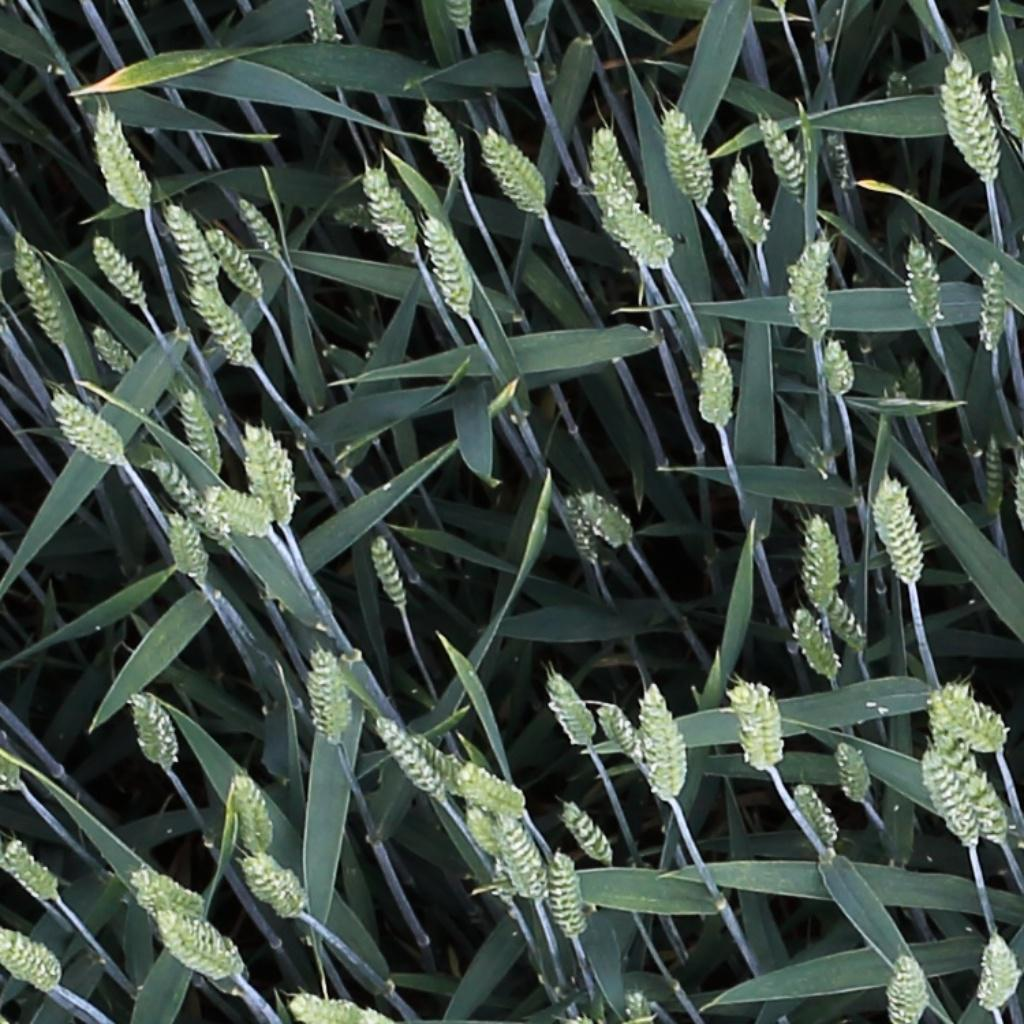0-0: (591, 158, 673, 262), (933, 728, 1010, 838), (148, 456, 229, 546), (914, 747, 980, 853), (947, 54, 1000, 181), (373, 712, 445, 805), (10, 230, 68, 345), (868, 476, 928, 586), (480, 124, 550, 215), (188, 279, 256, 370), (94, 103, 151, 211), (424, 210, 477, 322), (162, 195, 222, 293), (296, 644, 353, 744), (733, 681, 792, 776), (781, 234, 834, 338), (158, 913, 238, 978), (245, 419, 294, 525), (757, 106, 812, 200), (88, 228, 151, 309), (203, 222, 267, 301), (496, 809, 548, 906), (644, 685, 685, 805), (51, 393, 126, 458), (364, 163, 419, 251), (928, 683, 1002, 748), (669, 103, 715, 203), (546, 670, 602, 752), (558, 798, 619, 872), (791, 603, 845, 686), (178, 383, 223, 480), (796, 510, 839, 608), (454, 753, 527, 810), (1, 839, 62, 907), (244, 854, 305, 922), (420, 96, 469, 180), (593, 121, 643, 203), (691, 339, 736, 429), (207, 488, 281, 542), (232, 188, 286, 260), (819, 587, 873, 658), (232, 770, 274, 861), (129, 690, 174, 774), (729, 157, 770, 247), (132, 872, 207, 920), (368, 532, 410, 617), (595, 699, 647, 767), (577, 490, 637, 548), (166, 506, 207, 589), (907, 234, 942, 330), (552, 847, 585, 947), (989, 47, 1024, 140), (561, 490, 602, 569), (0, 933, 57, 989), (464, 801, 512, 866), (885, 950, 927, 1024), (87, 319, 137, 379), (834, 737, 873, 813), (793, 780, 837, 846), (981, 929, 1013, 1018), (288, 996, 385, 1024), (980, 253, 1006, 356), (409, 730, 458, 784), (981, 427, 1006, 520), (826, 330, 854, 402), (308, 1, 340, 50), (623, 981, 653, 1024), (449, 0, 476, 38)
